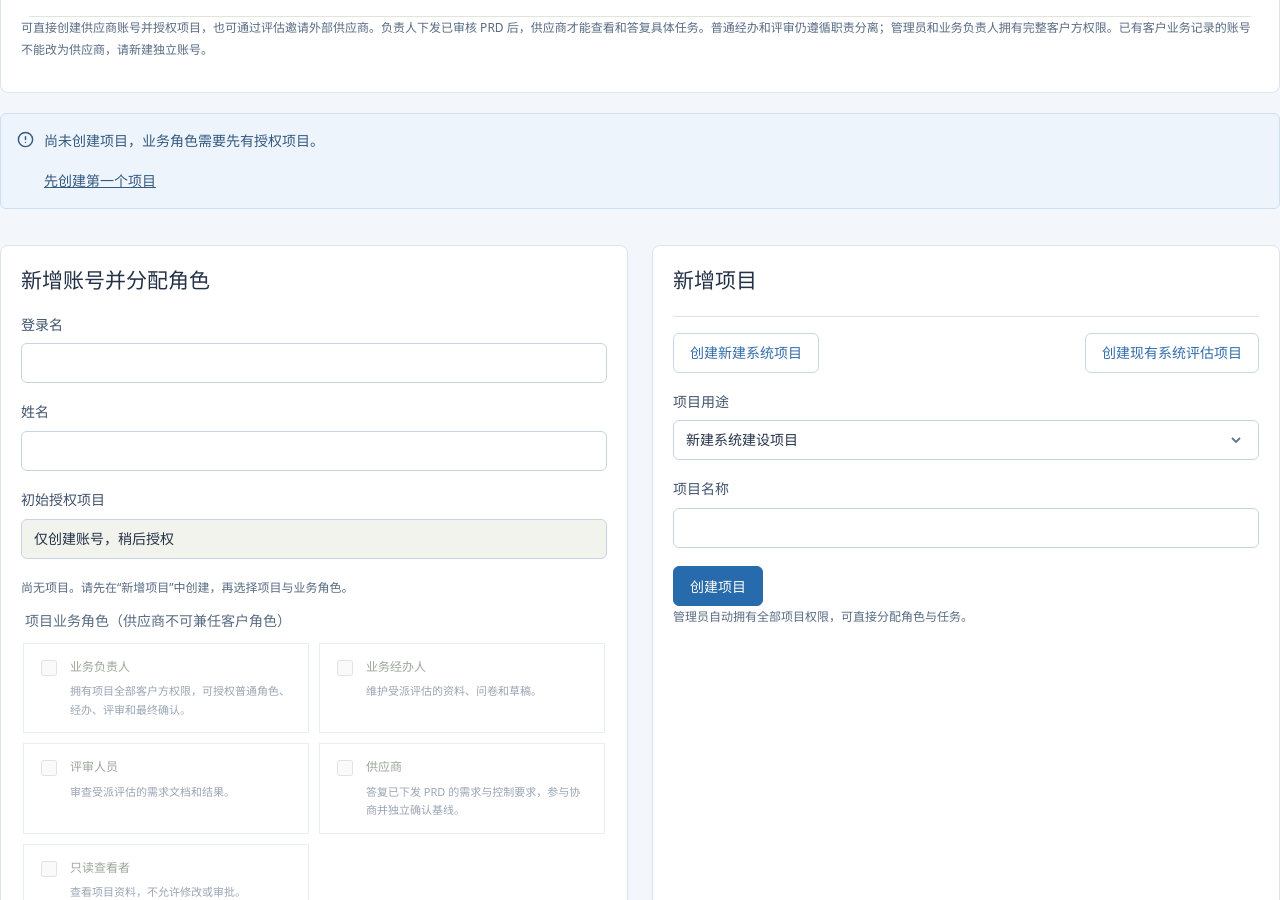
it: explains the empty-project state and enables role selection after creating a project
(page scrolled)
Expected: the text "尚未创建项目，业务角色需要先有授权项目。" is shown, [44, 128, 324, 154]
Expected: the checkbox labelled "业务负责人" is disabled, [41, 660, 57, 676]
Step 1. Type "保留的名字" into the field labelled "姓名" → (314, 451), box [21, 431, 607, 471]
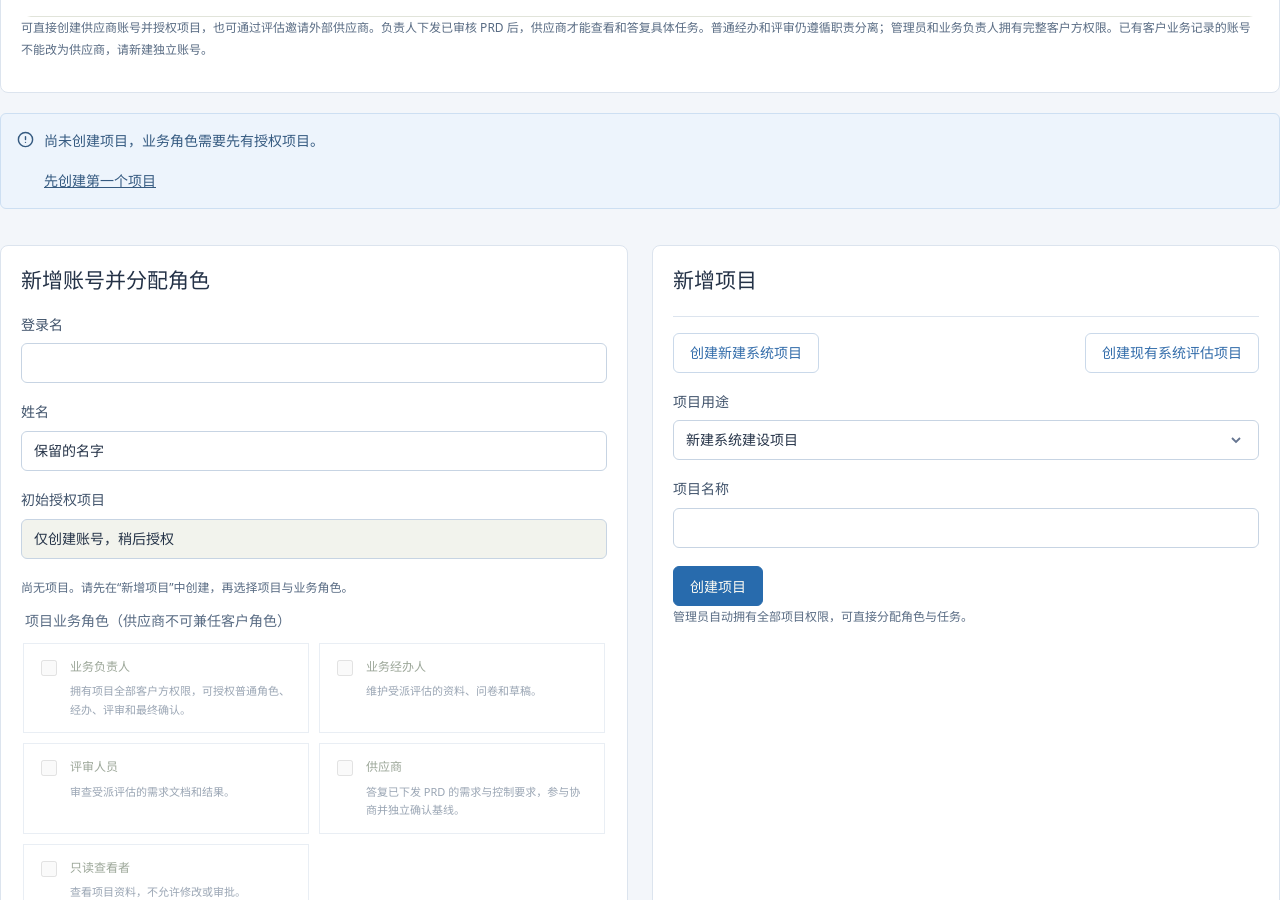
Step 2. Type "新项目 原文" into the field labelled "项目名称" → (966, 528), box [673, 508, 1259, 548]
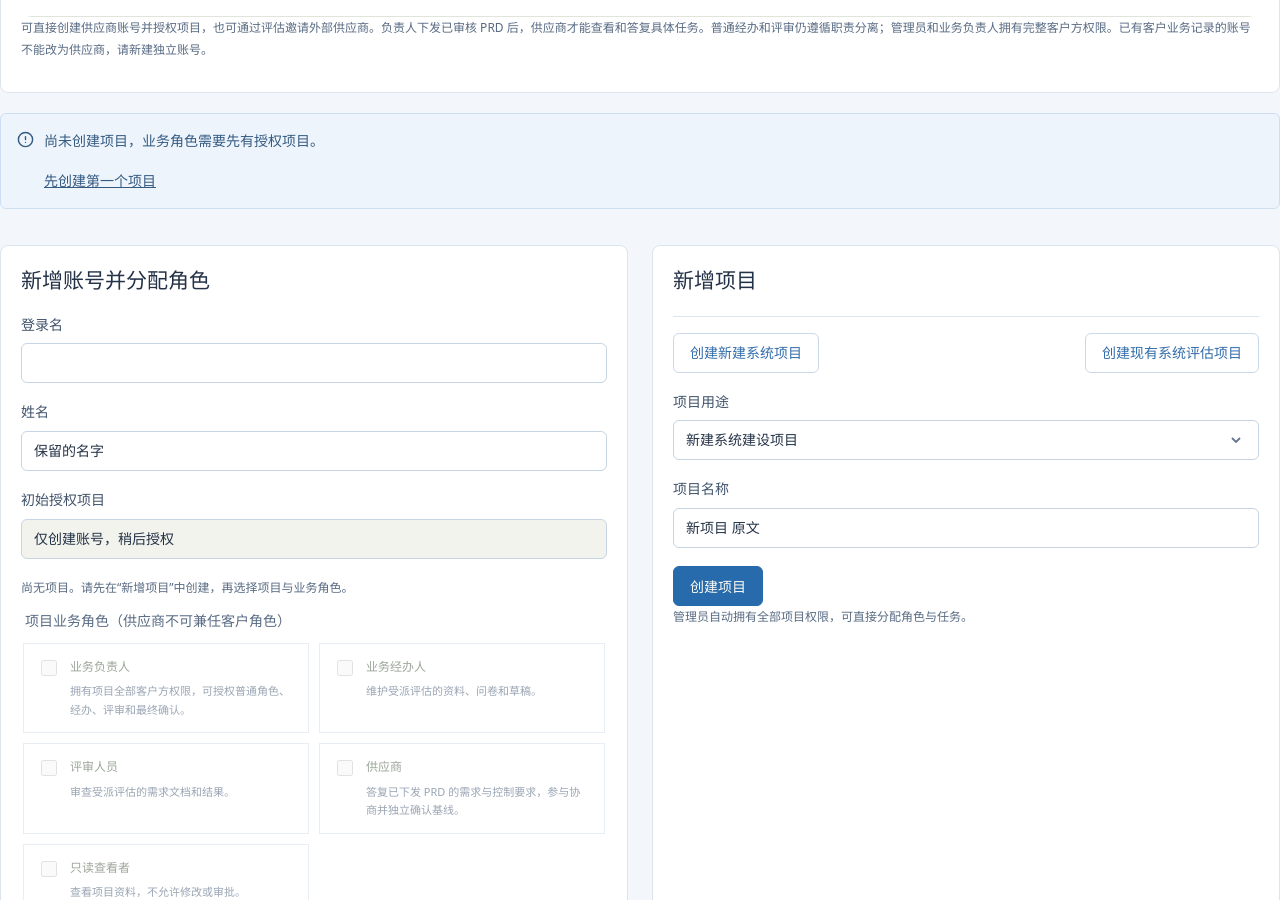
Step 3. Click the button "创建项目" → (718, 586), box [673, 566, 763, 606]
(page scrolled)
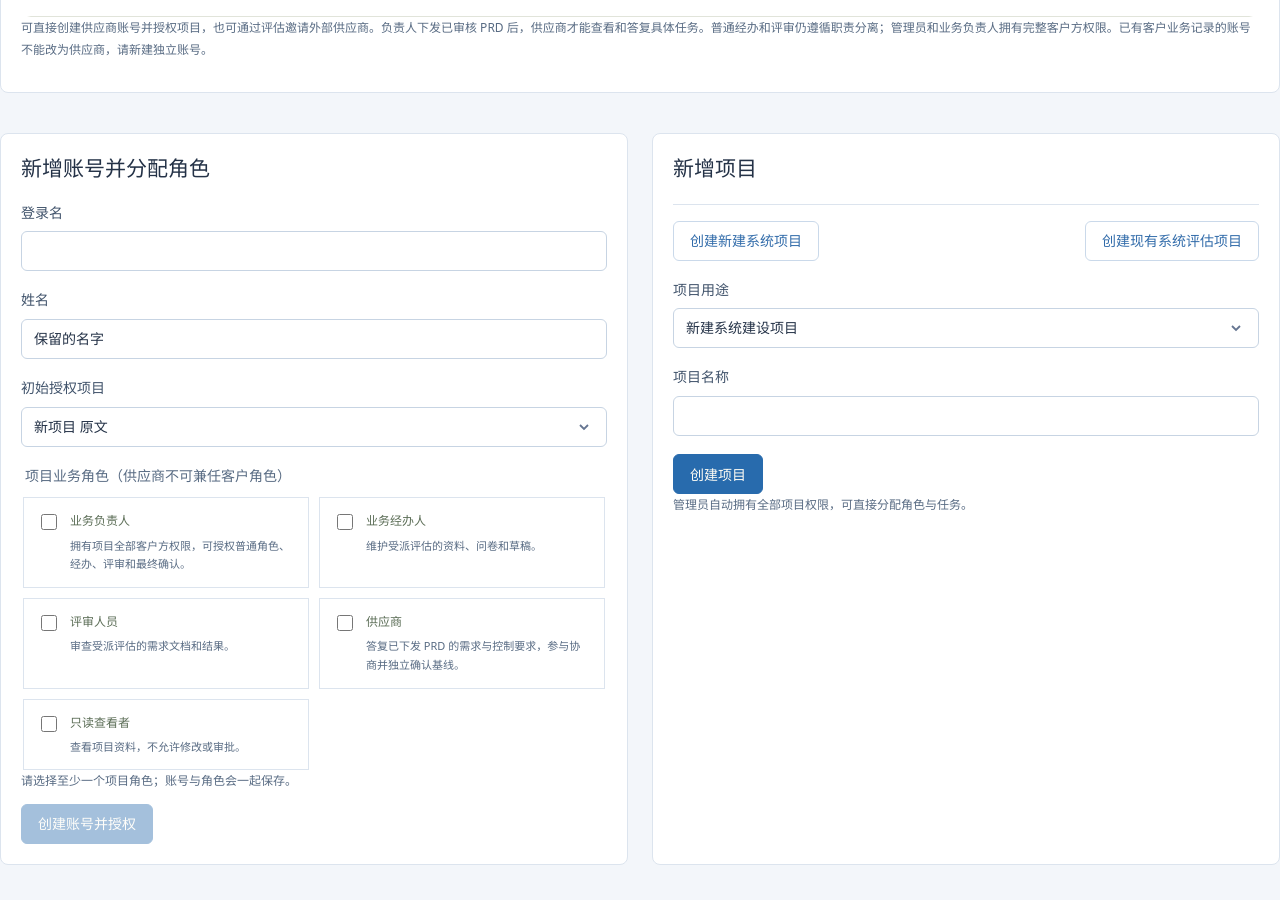
Expected: the checkbox labelled "业务负责人" is enabled, [41, 514, 57, 530]
Expected: the dropdown labelled "初始授权项目" shows "新项目 原文", [21, 407, 607, 447]
